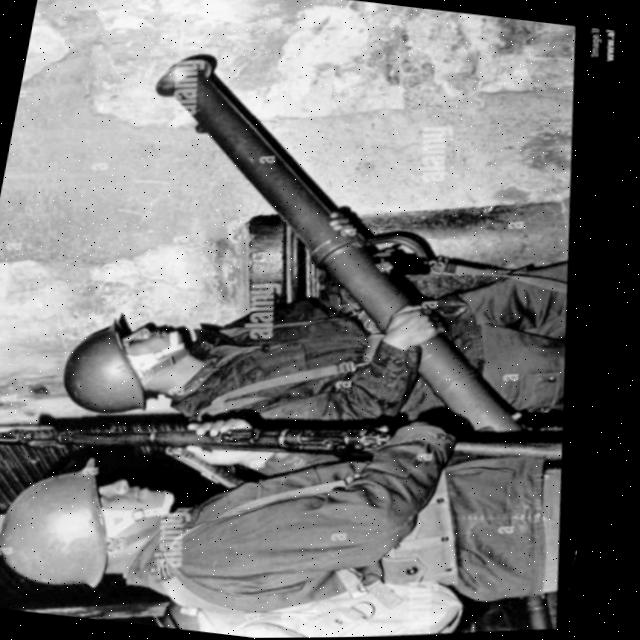rocket: (81, 1, 600, 488)
